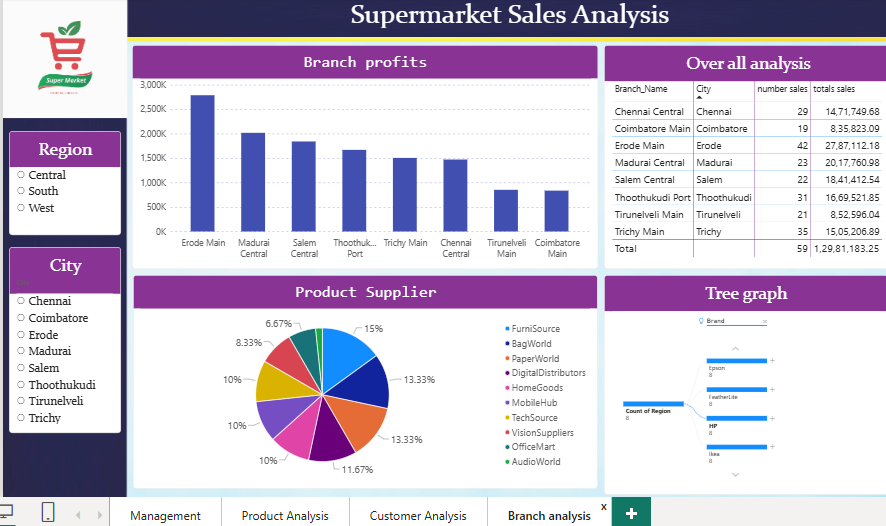

This screenshot's page, from the dashboard's own definition file:
{"tool":"powerbi","page":{"name":"Branch analysis ","canvas":[1920,1080],"ordinal":3},"visuals":[{"type":"listSlicer","title":"City","fields":{"Values":["Branch.City"]},"box":[13,540,241.9,401.8],"z":0},{"type":"image","title":"Supermarket Sales Analysis ","box":[278.6,0,1633,67],"z":1000},{"type":"clusteredColumnChart","title":"Branch profits","fields":{"Category":["Branch.Branch_Name"],"Y":["Product.totals sales"]},"box":[278.6,103.7,1006.6,483.8],"z":2000},{"type":"listSlicer","fields":{"Values":["Branch.Region"]},"box":[13,289.4,241.9,224.6],"z":3000},{"type":"pieChart","title":"Product Supplier","fields":{"Category":["Product.Supplier"],"Y":["CountNonNull(Product.Product_Name)"]},"box":[280.8,600.5,1004.4,462.2],"z":4000},{"type":"tableEx","title":"Over all analysis ","fields":{"Values":["Branch.Branch_Name","Branch.City","Product.number sales","Product.totals sales"]},"box":[1298.2,103.7,622.1,483.8],"z":4001},{"type":"decompositionTreeVisual","title":"Tree graph","fields":{"Analyze":["CountNonNull(Branch.Region)"],"ExplainBy":["Product.Brand","Product.Category","Branch.Branch_Name"]},"box":[1298.2,600.5,613.4,475.2],"z":4002}]}

Visuals, with their boxes on the page's 1920x1080 design canvas (x1, y1, x2, y2). These are canvas units, not pixel positions in the 886x526 screenshot, which may show the page scaled, cropped or inside an application window:
"City" listSlicer: pyautogui.locateOnScreen(13, 540, 255, 942)
"Supermarket Sales Analysis " image: pyautogui.locateOnScreen(279, 0, 1912, 67)
"Branch profits" clusteredColumnChart: pyautogui.locateOnScreen(279, 104, 1285, 588)
listSlicer - Branch.Region: pyautogui.locateOnScreen(13, 289, 255, 514)
"Product Supplier" pieChart: pyautogui.locateOnScreen(281, 600, 1285, 1063)
"Over all analysis " tableEx: pyautogui.locateOnScreen(1298, 104, 1920, 588)
"Tree graph" decompositionTreeVisual: pyautogui.locateOnScreen(1298, 600, 1912, 1076)
